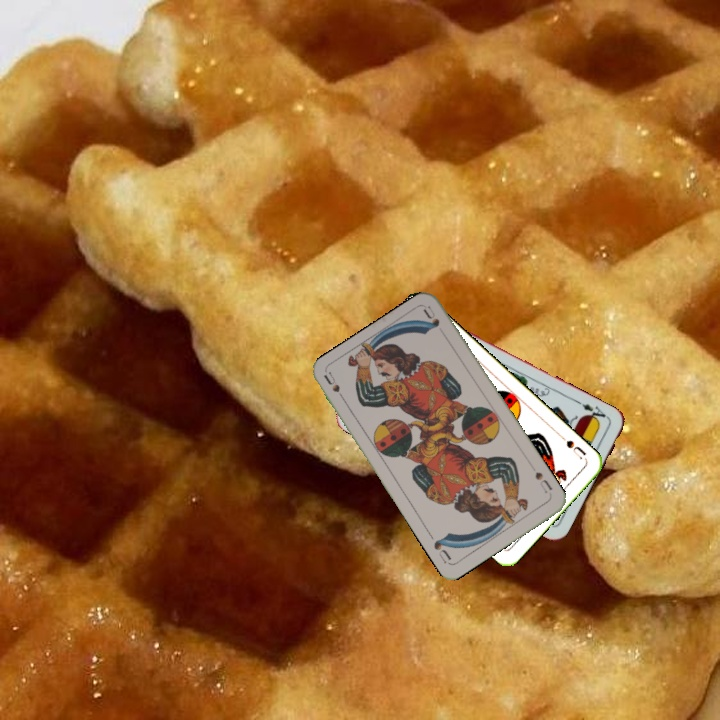EA: (573, 397, 611, 425)
SU: (321, 369, 350, 407), (556, 431, 589, 463), (531, 468, 555, 499)
